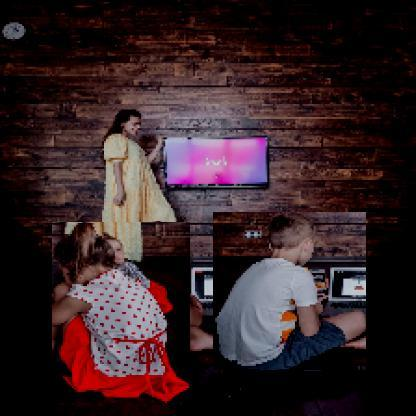child: (53, 223, 192, 405), (215, 213, 369, 372)
